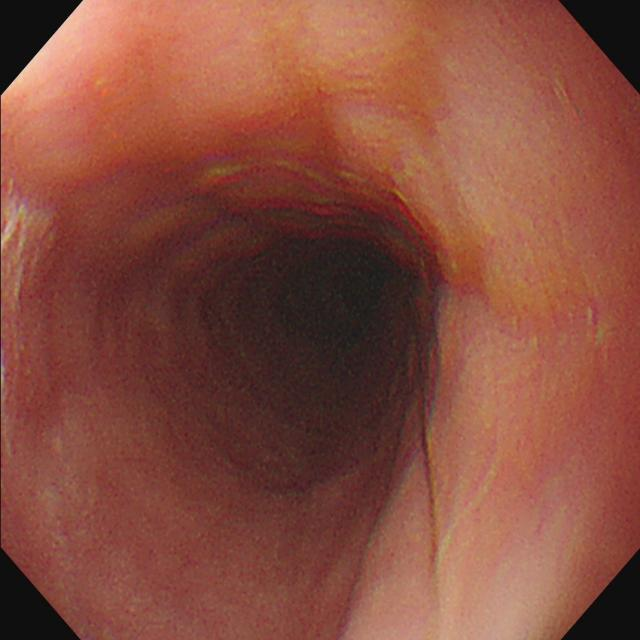E: (216, 213, 413, 407)
J: (2, 183, 60, 306)
